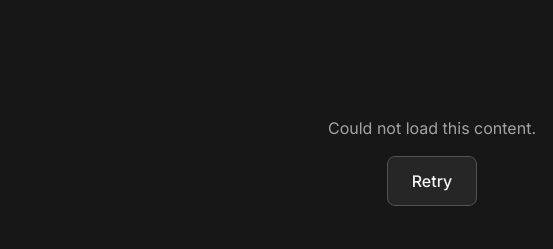
PostDetail › offers a retry instead of "not found" on a 500 response
Expected: the text "Could not load this content." is shown, [328,116,536,140]
Click the button "Retry" at (432, 181), box [387,156,477,206]
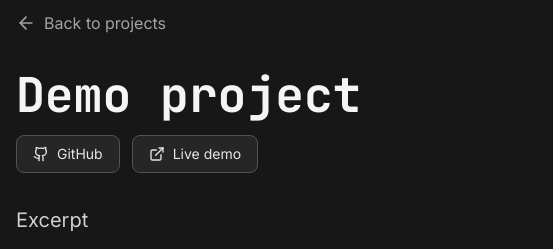
Result: the heading "Demo project" is shown at [16,63,362,126]
